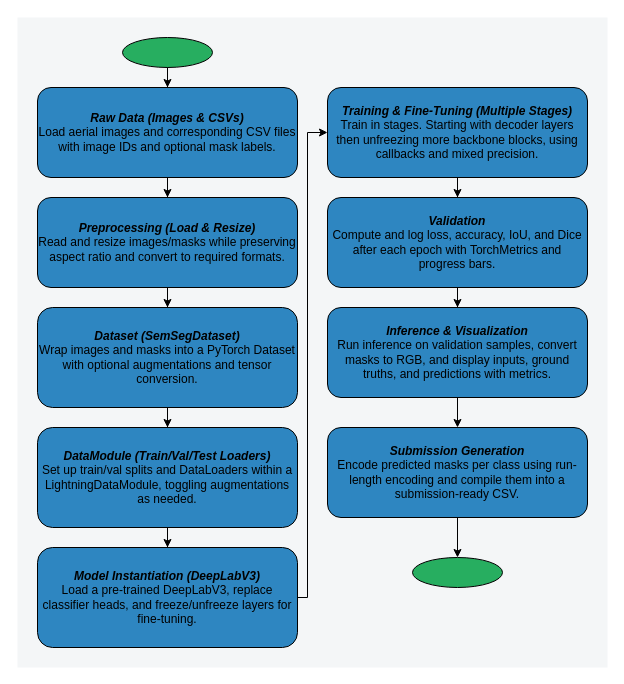
Image size: 624x684. Some labels were removed from this diagram. Each missing label, with the box of its shape:
Finish: (412, 556, 502, 588)
Start: (122, 36, 212, 68)
